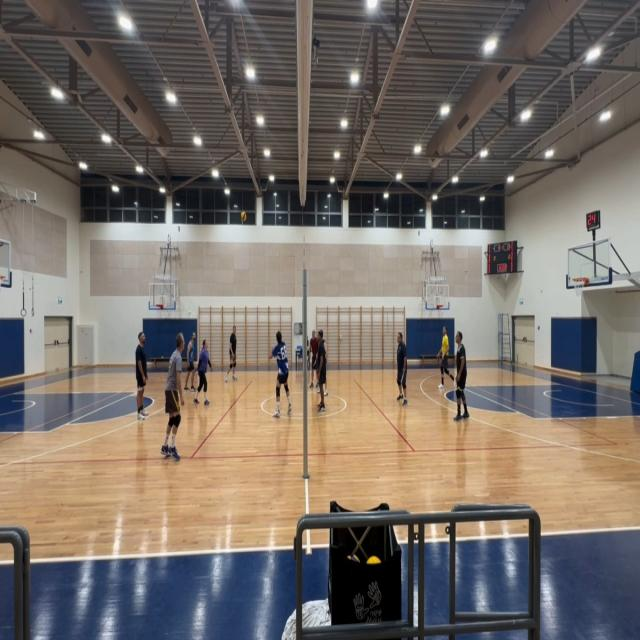volleyball: (241, 211, 246, 222)
